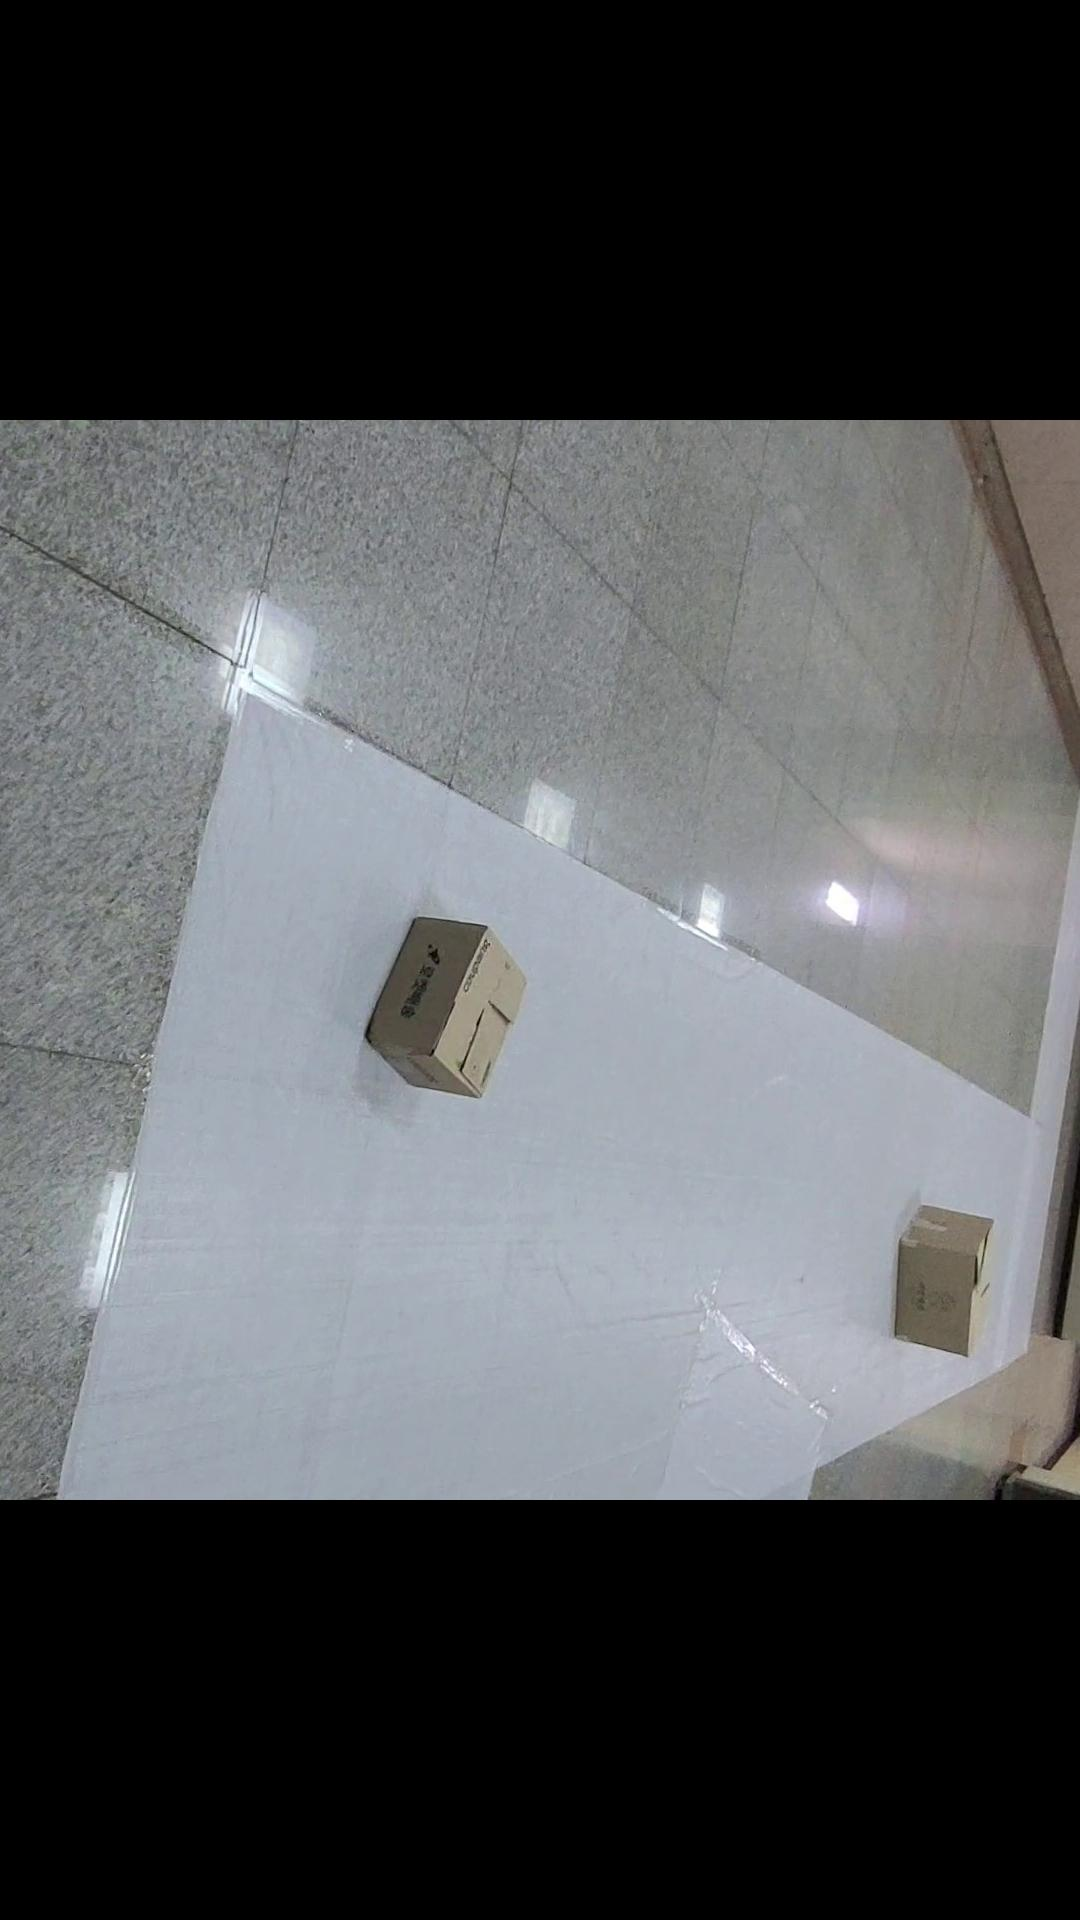Box: (338, 913, 545, 1112), (857, 1156, 1011, 1382)
